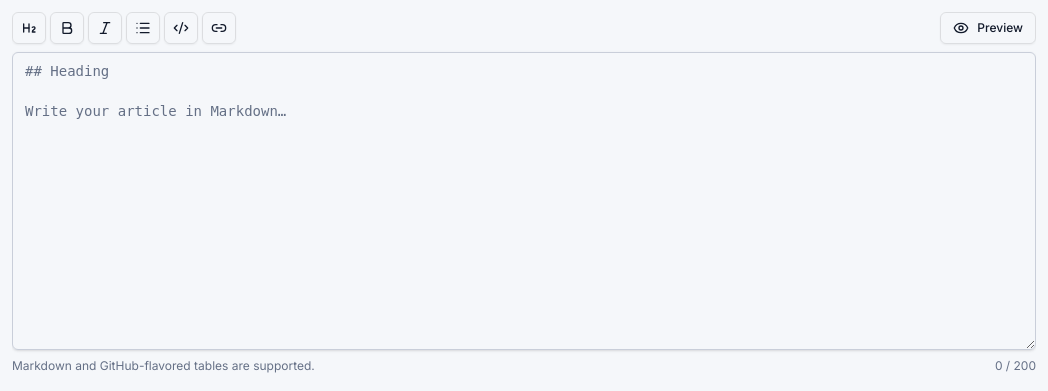
MarkdownEditor › edits Markdown and shows the character count
This screenshot has width=1048, height=391.
Type "## Hello" into the text box with test id "markdown-input" at point(524, 201), box [12,52,1036,350]
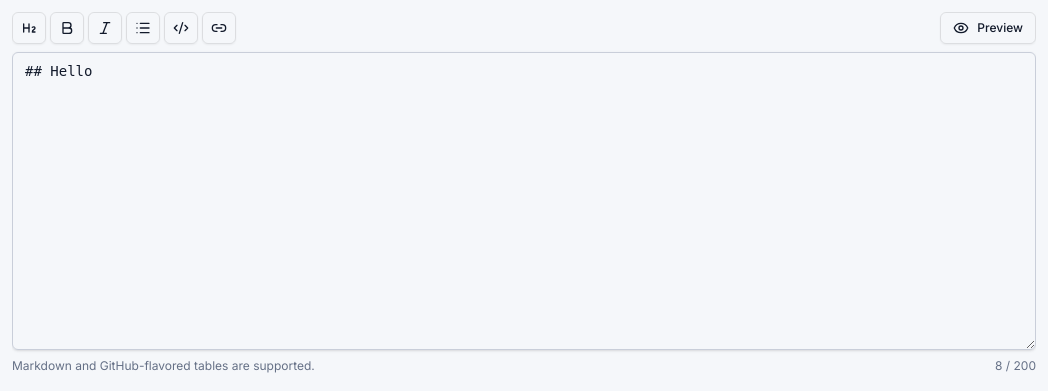
Expected: the text "8 / 200" is shown, [995,358,1036,374]
